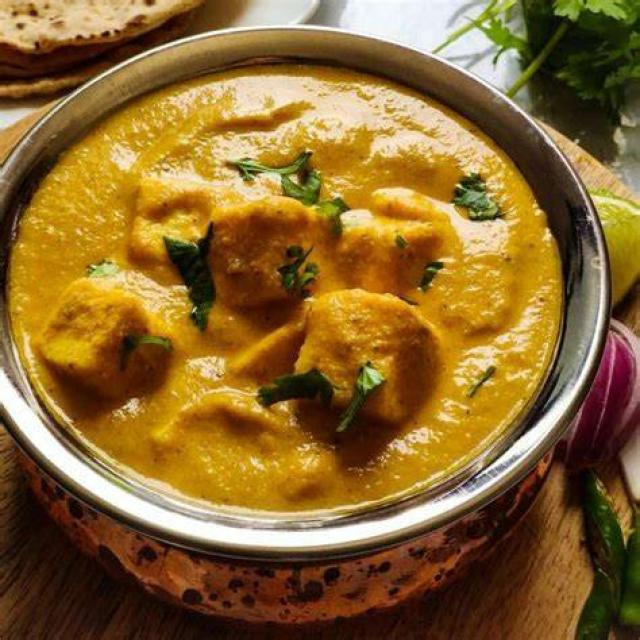ShahiPaneer: (7, 62, 564, 515)
